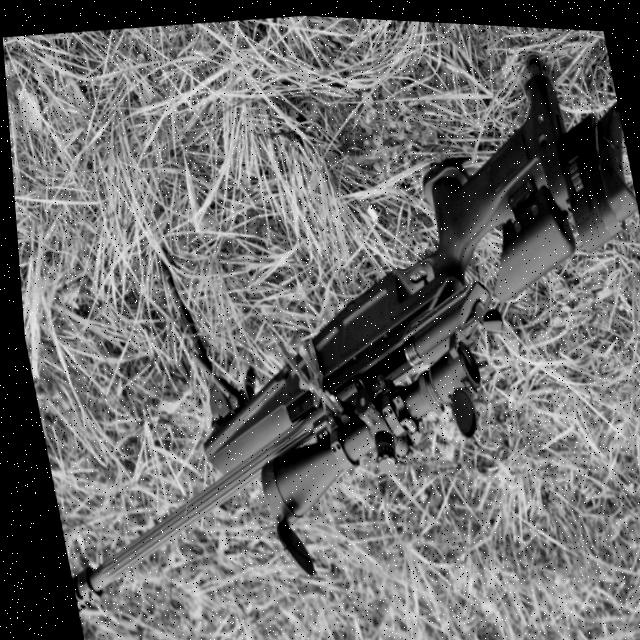firearm: (1, 11, 640, 640)
